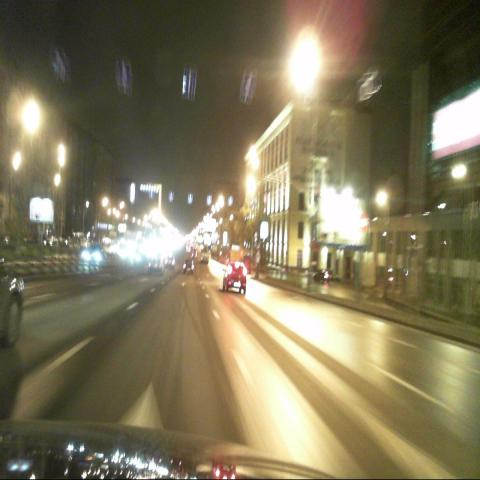2_1: (308, 199, 317, 217)
5_15_2: (182, 68, 198, 97)
